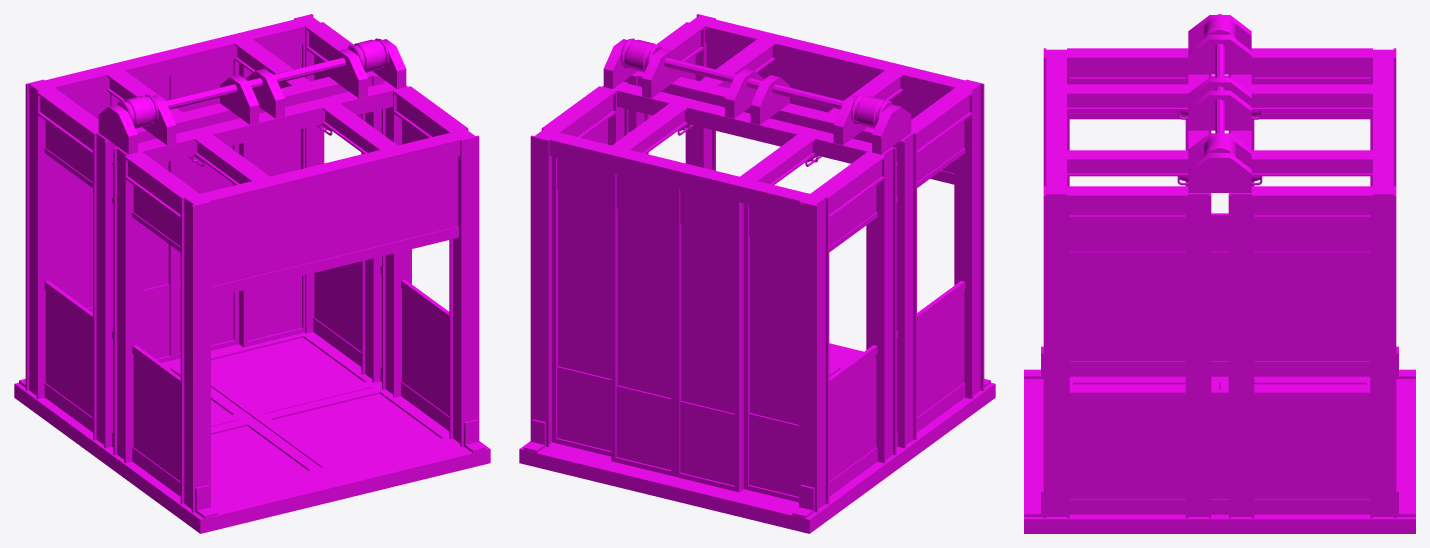
File: Elevator_Box.fbx
3 views of the same model, side by side, from view 1: azimuth 30°, elevation 25°; view 2: azimuth 150°, elevation 25°; view 3: azimuth 270°, elevation 25° (orthographic). The views are drawn at different scales.
Visible parts, largest first — view 1: Elevator_Box; view 2: Elevator_Box; view 3: Elevator_Box.
Boxes of the visible parts, bbox=[...] form: Elevator_Box: bbox=[14, 14, 490, 533]; Elevator_Box: bbox=[519, 14, 995, 533]; Elevator_Box: bbox=[1024, 14, 1415, 533].
Bounding box in the file's own units: 0.2161 × 0.2563 × 0.24.
